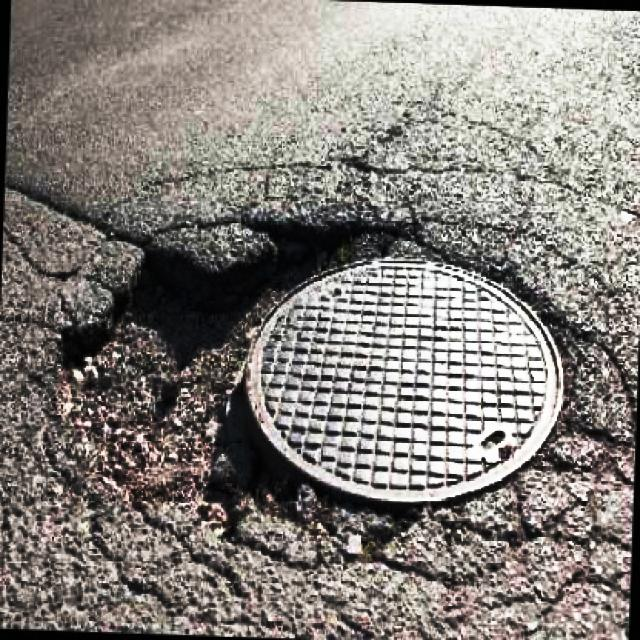pothole: (55, 206, 394, 517)
